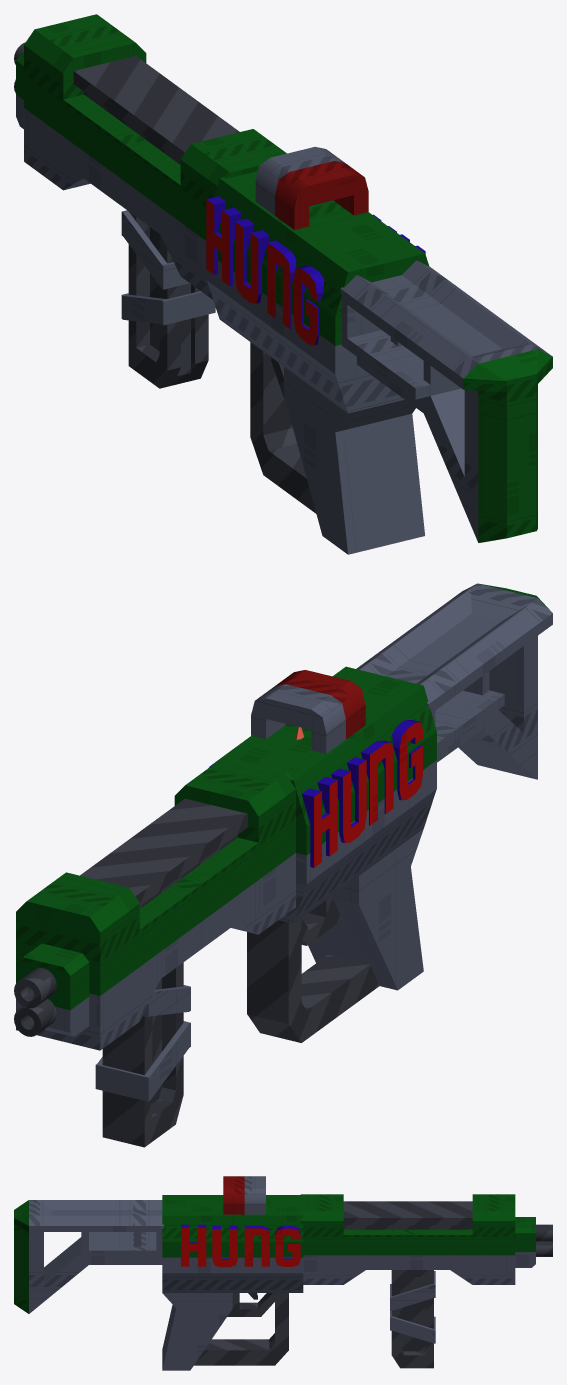
Rendered from HUNG_HUNG.glb.
The picture shows the model from 3 angles, top to bottom: view 1: azimuth 30°, elevation 25°; view 2: azimuth 150°, elevation 25°; view 3: azimuth 270°, elevation 25°; orthographic projection. The views are drawn at different scales.
Visible parts, largest first — view 1: mergedBlocks(Clone); view 2: mergedBlocks(Clone); view 3: mergedBlocks(Clone).
Part boxes in pixels (<box>): mergedBlocks(Clone): <box>14,14,552,554</box>; mergedBlocks(Clone): <box>14,583,552,1147</box>; mergedBlocks(Clone): <box>14,1176,552,1370</box>.
Bounding box in the file's own units: 0.8279 × 2.31 × 6.35.
7 materials, 5 textured.
